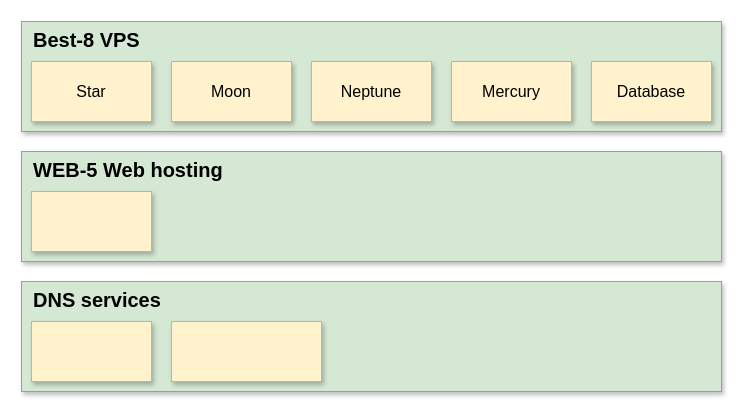
Image size: 745x416. Some labels were removed from this diagram. The centre of each missing label's shape, as x and y in pixels:
devilez.eu: (x=92, y=352)
Earth: (x=92, y=222)
francoisdevilez.eu: (x=247, y=352)
